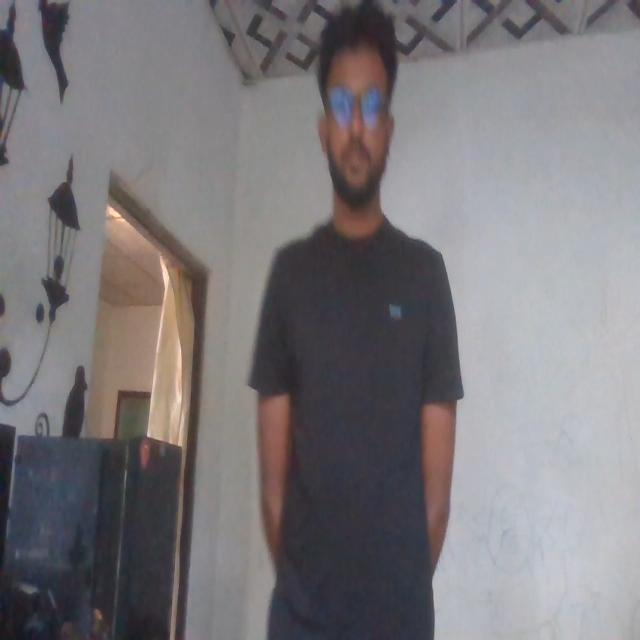Person: (249, 14, 455, 640)
